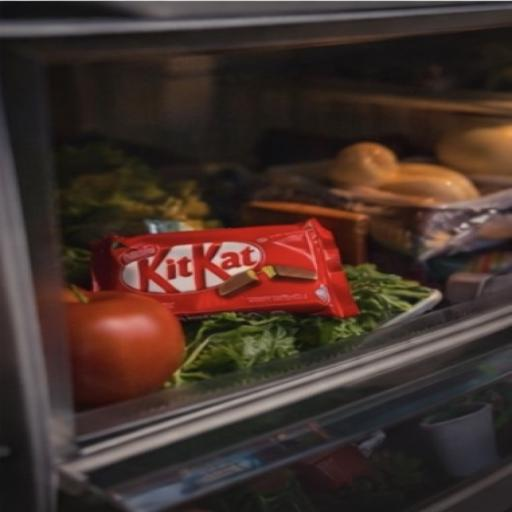kitkat: (75, 214, 456, 392)
